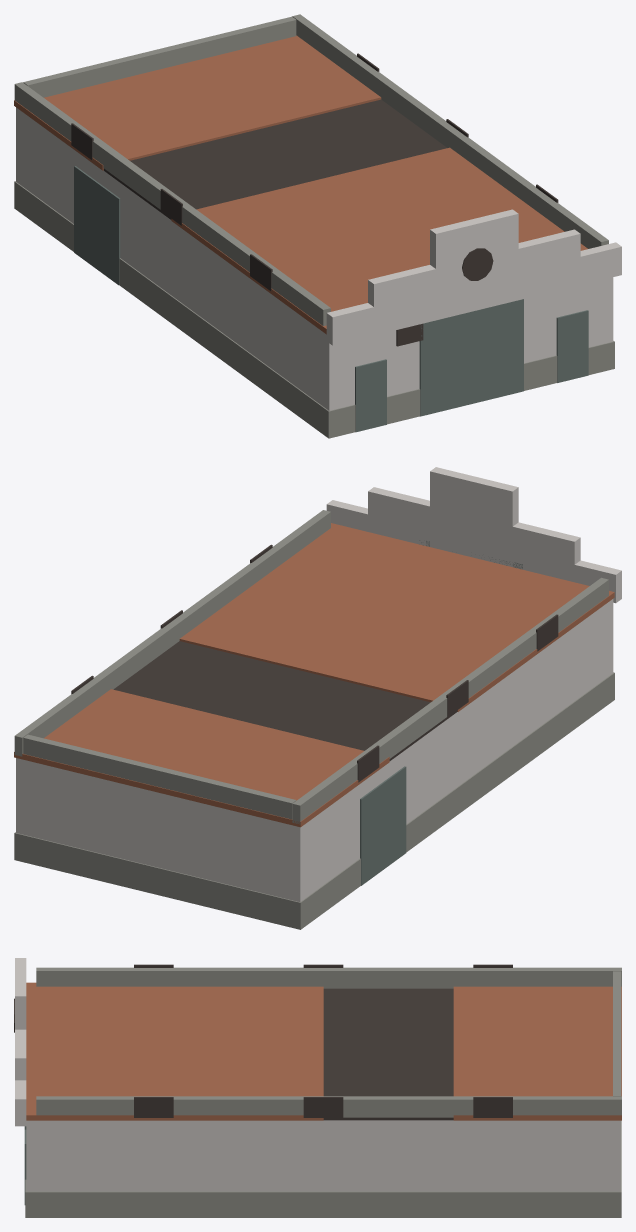
The model's file is SM_Cooperativa_v3_AlmacenHundido_LOD1.fbx.
The picture shows the model from 3 angles, top to bottom: view 1: azimuth 30°, elevation 25°; view 2: azimuth 150°, elevation 25°; view 3: azimuth 270°, elevation 25°; orthographic projection. The views are drawn at different scales.
Parts seen in each view (by area): view 1: SM_bloques.cooperativa_v3_LOD1; view 2: SM_bloques.cooperativa_v3_LOD1; view 3: SM_bloques.cooperativa_v3_LOD1.
Boxes of the visible parts, x1,y1,x2,y2 form: SM_bloques.cooperativa_v3_LOD1: [14, 14, 621, 438]; SM_bloques.cooperativa_v3_LOD1: [14, 467, 621, 929]; SM_bloques.cooperativa_v3_LOD1: [14, 958, 621, 1217].
Bounding box in the file's own units: 11.2 × 6.8 × 21.49.
